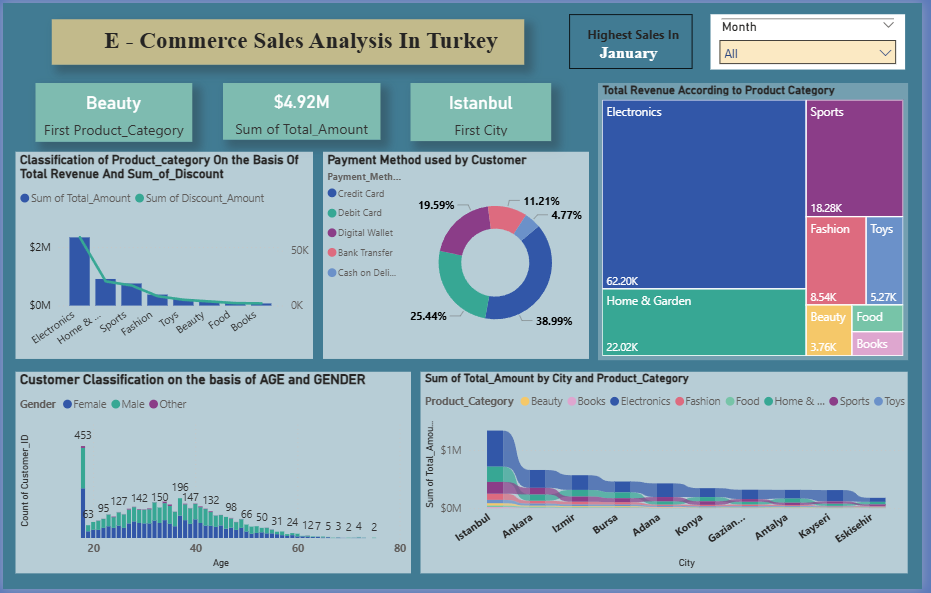

What the dashboard file says about the page in this screenshot:
{"tool":"powerbi","page":{"name":"Page 5","canvas":[1050,670],"ordinal":2},"visuals":[{"type":"card","fields":{"Values":["Min(ecommerce_customer_behavior_dataset.Product_Category)"]},"box":[37,91,179,67],"z":0},{"type":"card","fields":{"Values":["Sum(ecommerce_customer_behavior_dataset.Total_Amount)"]},"box":[251,91,180,65],"z":1000},{"type":"card","fields":{"Values":["Min(ecommerce_customer_behavior_dataset.City)"]},"box":[466,92,161,66],"z":2000},{"type":"treemap","title":"Total Revenue According to Product Category","fields":{"Group":["ecommerce_customer_behavior_dataset.Product_Category"],"Values":["Sum(ecommerce_customer_behavior_dataset.Discount_Amount)"]},"box":[680,92,354,317],"z":3000},{"type":"donutChart","title":"Payment Method used by Customer ","fields":{"Category":["ecommerce_customer_behavior_dataset.Payment_Method"],"Y":["Sum(ecommerce_customer_behavior_dataset.Total_Amount)"]},"box":[366,170,304,237],"z":4000},{"type":"columnChart","title":"Customer Classification on the basis of AGE and GENDER","fields":{"Category":["ecommerce_customer_behavior_dataset.Age"],"Y":["CountNonNull(ecommerce_customer_behavior_dataset.Customer_ID)"],"Series":["ecommerce_customer_behavior_dataset.Gender"]},"box":[14,421,452,230],"z":5000},{"type":"ribbonChart","fields":{"Category":["ecommerce_customer_behavior_dataset.City"],"Y":["Sum(ecommerce_customer_behavior_dataset.Total_Amount)"],"Series":["ecommerce_customer_behavior_dataset.Product_Category"]},"box":[477.1,421.4,557.1,230],"z":6000},{"type":"textbox","box":[55,18,540,52],"z":7000},{"type":"slicer","fields":{"Values":["ecommerce_customer_behavior_dataset.Date.Variation.Date Hierarchy.Month"]},"box":[808.9,12.2,222.2,63.3],"z":8000},{"type":"lineStackedColumnComboChart","title":"Classification of Product_category On the Basis Of Total Revenue And Sum_of_Discount","fields":{"Category":["ecommerce_customer_behavior_dataset.Product_Category"],"Y":["Sum(ecommerce_customer_behavior_dataset.Total_Amount)"],"Y2":["Sum(ecommerce_customer_behavior_dataset.Discount_Amount)"]},"box":[14,170,340,237],"z":9000},{"type":"textbox","box":[647,13,141,62],"z":10000}]}

Visuals, with their boxes in screenshot pixels (x1, y1, x2, y2), scaled from the page's 1050x670 canvas onto the 931x593 screenshot:
card - Min(ecommerce_customer_behavior_dataset.Product_Category): l=33, t=81, r=192, b=140
card - Sum(ecommerce_customer_behavior_dataset.Total_Amount): l=223, t=81, r=382, b=138
card - Min(ecommerce_customer_behavior_dataset.City): l=413, t=81, r=556, b=140
"Total Revenue According to Product Category" treemap: l=603, t=81, r=917, b=362
"Payment Method used by Customer " donutChart: l=325, t=150, r=594, b=360
"Customer Classification on the basis of AGE and GENDER" columnChart: l=12, t=373, r=413, b=576
ribbonChart - ecommerce_customer_behavior_dataset.City x Sum(ecommerce_customer_behavior_dataset.Total_Amount): l=423, t=373, r=917, b=577
textbox: l=49, t=16, r=528, b=62
slicer - ecommerce_customer_behavior_dataset.Date.Variation.Date Hierarchy.Month: l=717, t=11, r=914, b=67
"Classification of Product_category On the Basis Of Total Revenue And Sum_of_Discount" lineStackedColumnComboChart: l=12, t=150, r=314, b=360
textbox: l=574, t=12, r=699, b=66
